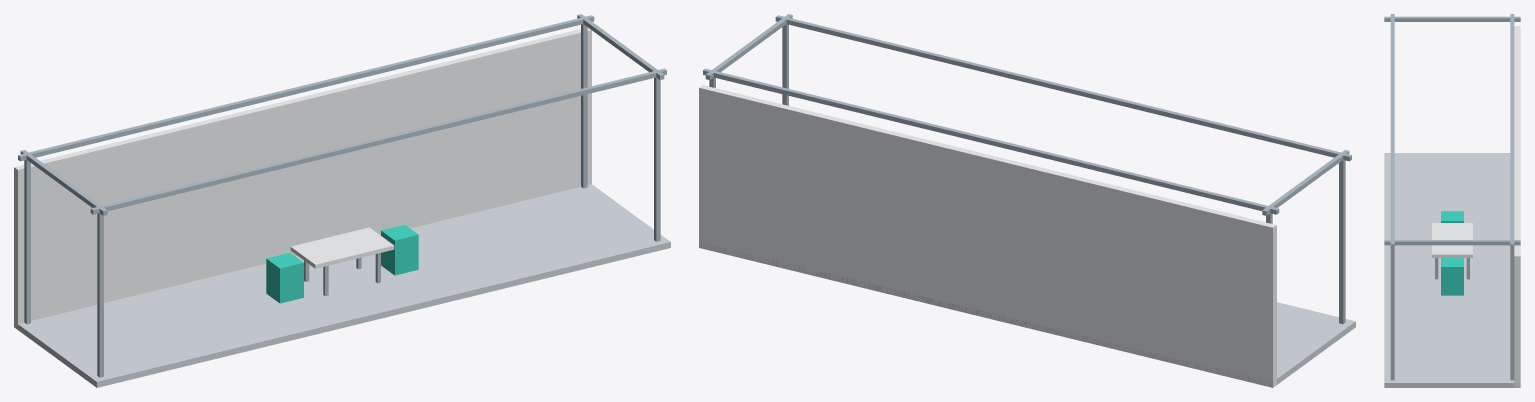
3 views of the same model, side by side, from view 1: azimuth 30°, elevation 25°; view 2: azimuth 150°, elevation 25°; view 3: azimuth 270°, elevation 25° (orthographic). The views are drawn at different scales.
Visible parts, largest first — view 1: Exhibition Booth Concept; view 2: Exhibition Booth Concept; view 3: Exhibition Booth Concept.
Part boxes in pixels (x1,y1,x2,y2): Exhibition Booth Concept: [14, 14, 670, 387]; Exhibition Booth Concept: [699, 14, 1355, 387]; Exhibition Booth Concept: [1384, 14, 1520, 387].
Bounding box in the file's own units: 12 × 3.49 × 3.
